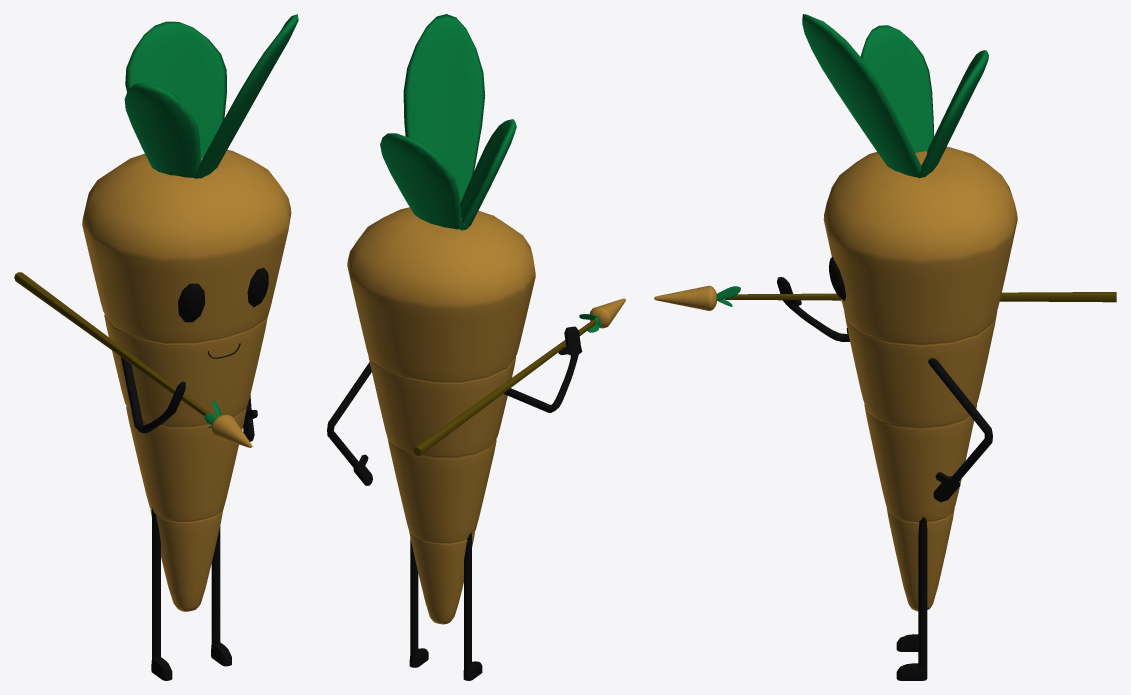
File: CarrotStanding.fbx
The picture shows the model from 3 angles, left to right: view 1: azimuth 30°, elevation 25°; view 2: azimuth 150°, elevation 25°; view 3: azimuth 270°, elevation 25°; orthographic projection. The views are drawn at different scales.
Visible parts, largest first — view 1: pCube1 (×2), CarrotAccesories:pCube4, CarrotAccesories:pCube2, CarrotAccesories:pCube3, pCube5, Rleg, Eyes, LLeg, sweep6; view 2: pCube1 (×2), CarrotAccesories:pCube3, CarrotAccesories:pCube4, CarrotAccesories:pCube2, pCube5, sweep6, sweep7, Rleg, LLeg; view 3: pCube1 (×2), CarrotAccesories:pCube3, CarrotAccesories:pCube2, CarrotAccesories:pCube4, LLeg, pCube5, sweep7, sweep6.
Boxes of the visible parts, bbox=[...] form: pCube1 (×2): bbox=[82, 149, 291, 611]; CarrotAccesories:pCube4: bbox=[125, 21, 226, 157]; CarrotAccesories:pCube2: bbox=[124, 83, 200, 177]; CarrotAccesories:pCube3: bbox=[194, 14, 298, 178]; pCube5: bbox=[14, 272, 210, 416]; Rleg: bbox=[151, 508, 172, 680]; Eyes: bbox=[178, 267, 268, 322]; LLeg: bbox=[211, 526, 231, 666]; sweep6: bbox=[121, 357, 185, 433]; pCube1 (×2): bbox=[347, 207, 625, 624]; CarrotAccesories:pCube3: bbox=[403, 14, 485, 202]; CarrotAccesories:pCube4: bbox=[380, 133, 461, 229]; CarrotAccesories:pCube2: bbox=[459, 119, 516, 230]; pCube5: bbox=[413, 320, 595, 455]; sweep6: bbox=[503, 326, 582, 412]; sweep7: bbox=[327, 362, 372, 485]; Rleg: bbox=[463, 532, 482, 680]; LLeg: bbox=[409, 538, 428, 667]; pCube1 (×2): bbox=[654, 146, 1017, 611]; CarrotAccesories:pCube3: bbox=[802, 14, 921, 177]; CarrotAccesories:pCube2: bbox=[860, 25, 933, 152]; CarrotAccesories:pCube4: bbox=[918, 50, 988, 178]; LLeg: bbox=[896, 517, 927, 680]; pCube5: bbox=[725, 292, 1116, 302]; sweep7: bbox=[928, 358, 992, 502]; sweep6: bbox=[777, 277, 849, 341].
Bounding box in the file's own units: 71.1 × 248 × 154.
